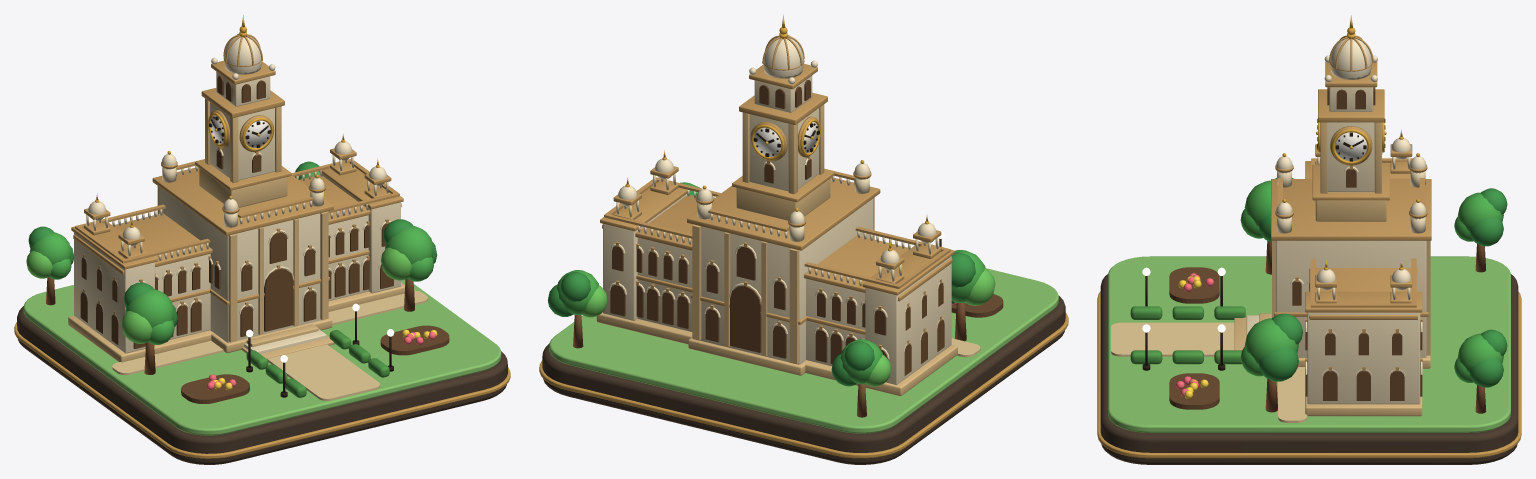
The model's file is bits_campus.glb.
The picture shows the model from 3 angles, left to right: view 1: azimuth 30°, elevation 25°; view 2: azimuth 150°, elevation 25°; view 3: azimuth 270°, elevation 25°; orthographic projection. The views are drawn at different scales.
Visible parts, largest first — view 1: bits_campus; view 2: bits_campus; view 3: bits_campus.
Part boxes in pixels (x1,y1,x2,y2): bits_campus: [14, 15, 510, 464]; bits_campus: [539, 14, 1068, 464]; bits_campus: [1097, 15, 1521, 464].
Size of the model in its own units: 1 by 0.9487 by 1.
